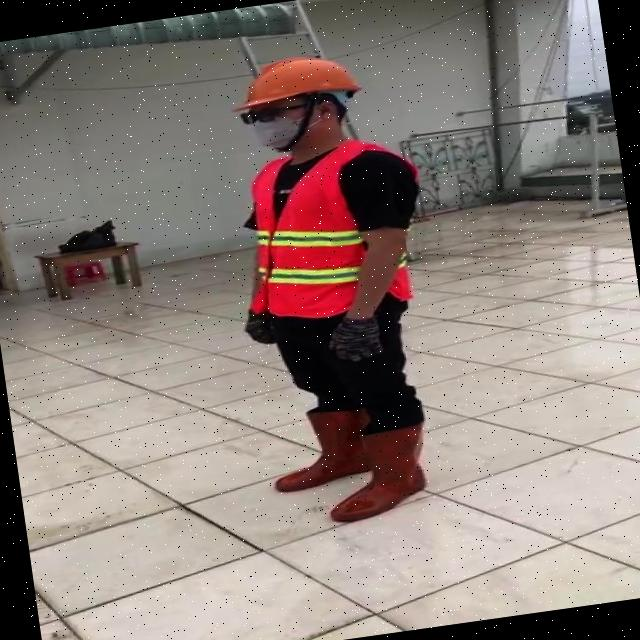boots: (256, 394, 391, 498), (322, 420, 438, 527)
